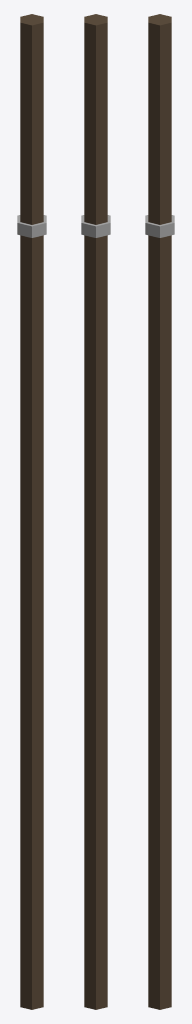
Rendered from SM_utility_pole_5.gltf.
The picture shows the model from 3 angles, left to right: view 1: azimuth 90°, elevation 25°; view 2: azimuth 150°, elevation 25°; view 3: azimuth 270°, elevation 25°; orthographic projection.
Visible parts, largest first — view 1: SM_utility_pole_5; view 2: SM_utility_pole_5; view 3: SM_utility_pole_5.
Boxes of the visible parts, <box> form: SM_utility_pole_5: <box>17,14,46,1009</box>; SM_utility_pole_5: <box>81,14,110,1009</box>; SM_utility_pole_5: <box>145,14,174,1009</box>.
Size of the model in its own units: 0.2511 by 8 by 0.2175.
1 material, 1 textured.
